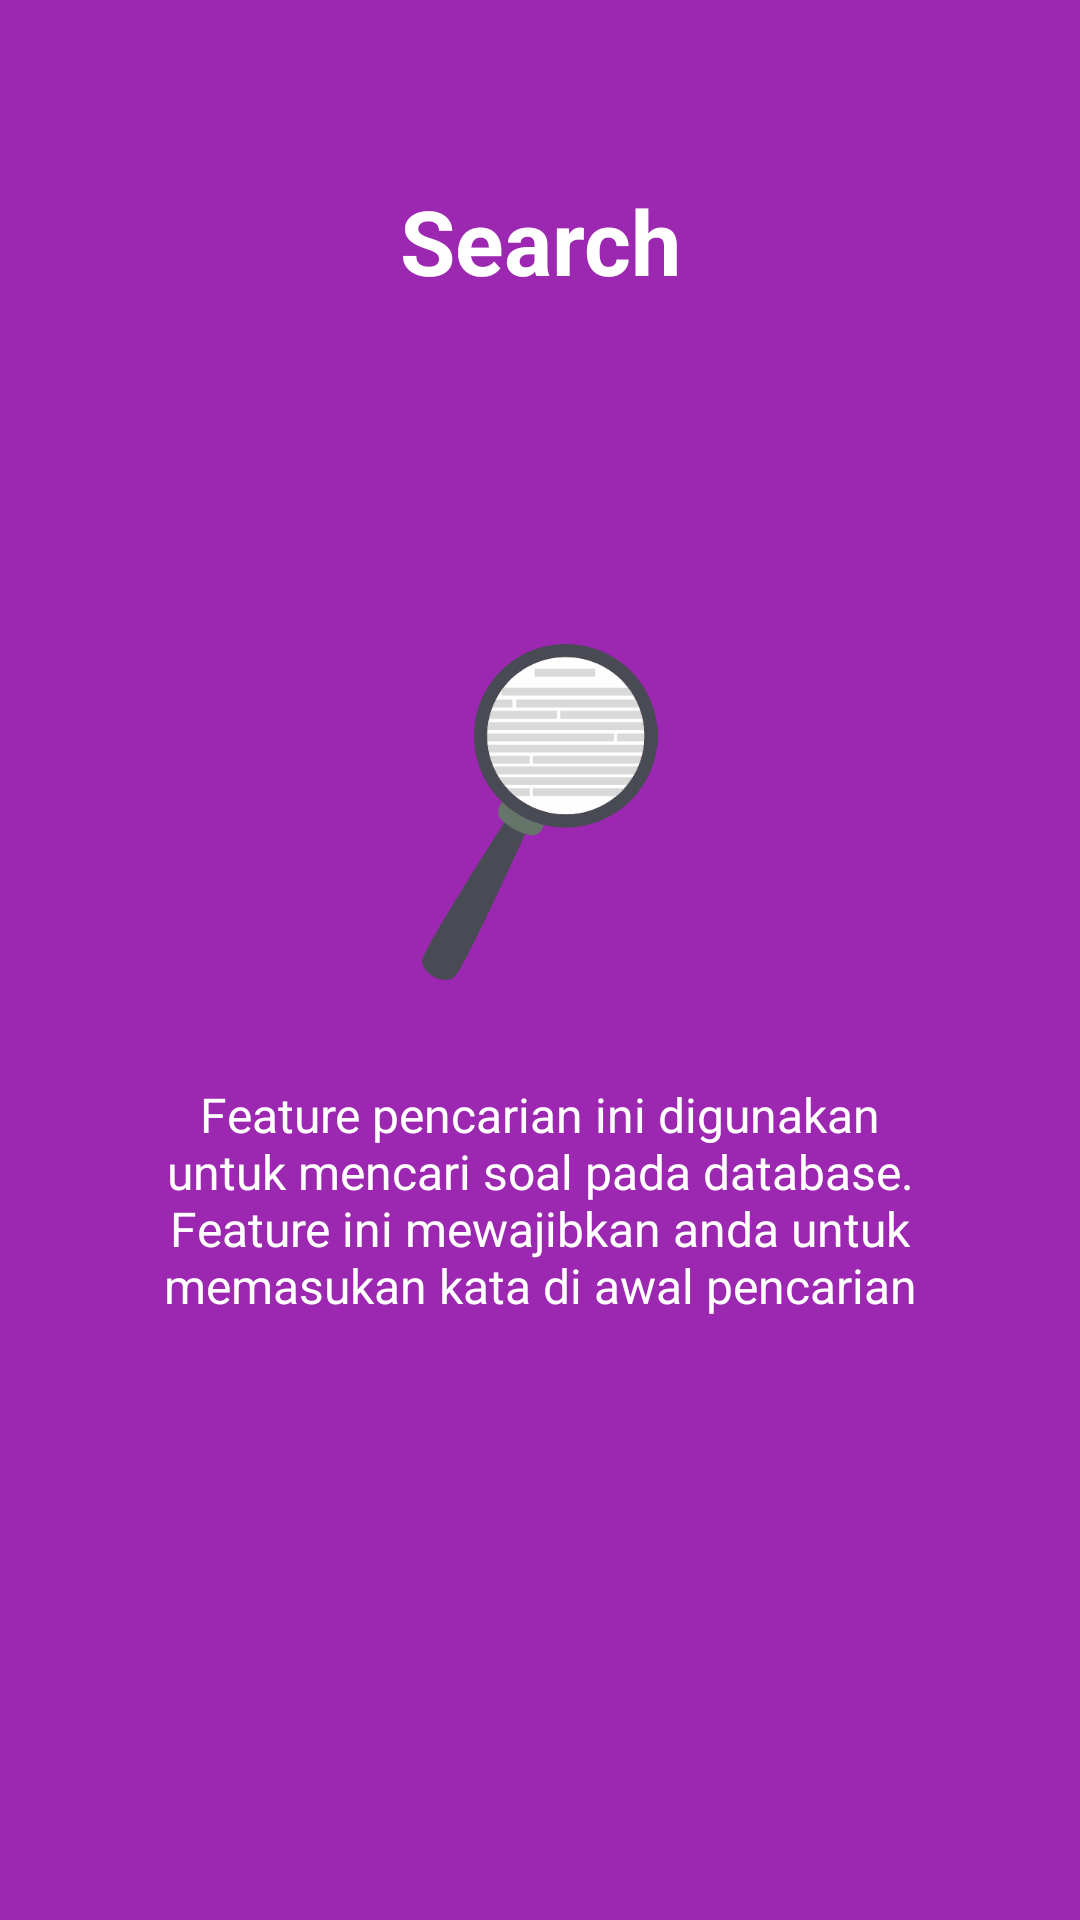

Named icons in this screenshot (1080 × 1920) and their bounding boxes, BBox(x1, y1, x2, y2):
tips search: BBox(422, 644, 658, 980)
